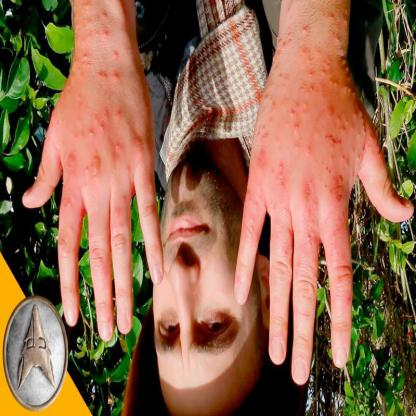Fire ant: (322, 60, 366, 205), (76, 96, 130, 138), (316, 4, 352, 54), (74, 2, 110, 44), (272, 25, 294, 83), (244, 186, 266, 242), (305, 206, 323, 266), (97, 49, 123, 88), (270, 158, 288, 212), (90, 230, 108, 282), (331, 214, 349, 263), (302, 56, 316, 112), (254, 121, 269, 173), (84, 154, 103, 194), (113, 194, 130, 234), (145, 173, 158, 220), (279, 220, 293, 262), (284, 100, 300, 136), (74, 53, 94, 80), (66, 190, 77, 238), (369, 132, 385, 160), (262, 89, 276, 118), (300, 26, 312, 56), (65, 154, 79, 178), (60, 83, 72, 101), (302, 145, 316, 159), (113, 140, 124, 156), (344, 288, 352, 308), (124, 164, 132, 178)
